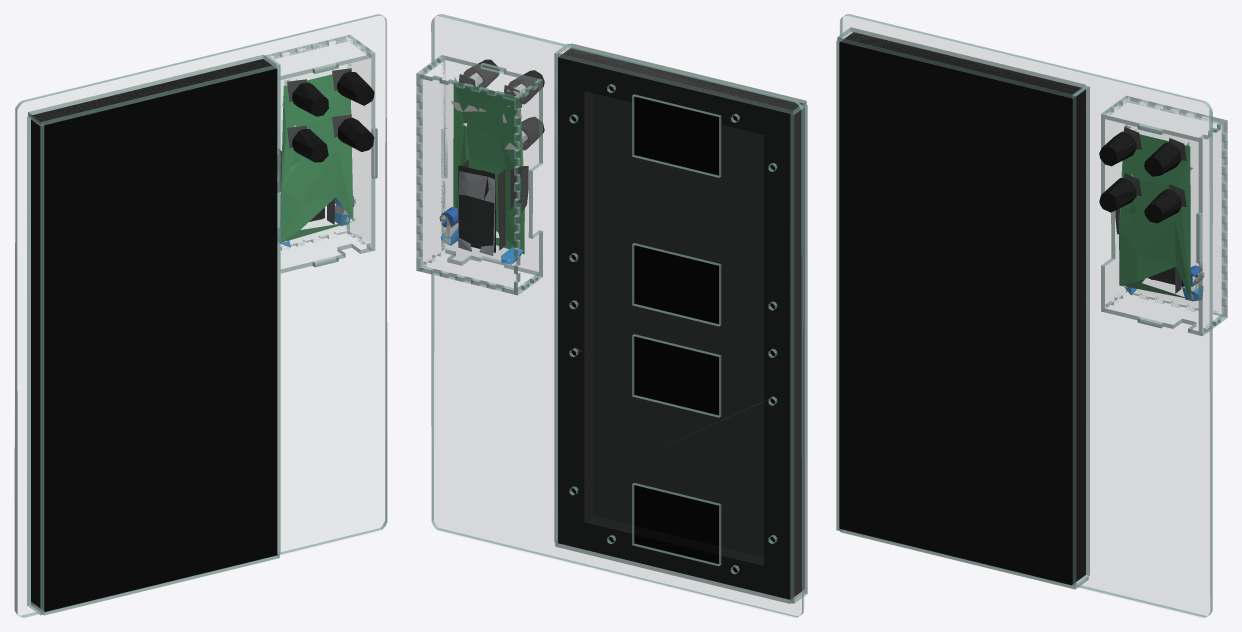
File: light.glb
The picture shows the model from 3 angles, left to right: view 1: azimuth 30°, elevation 25°; view 2: azimuth 150°, elevation 25°; view 3: azimuth 330°, elevation 25°; orthographic projection.
Visible parts, largest first — view 1: l, body; view 2: body; view 3: l, body.
Boxes of the visible parts, box(x1,y1,x2,y2) form: l: box(45, 69, 277, 611); body: box(14, 14, 387, 617); body: box(416, 14, 807, 617); l: box(839, 42, 1071, 585); body: box(836, 14, 1227, 617).
Bounding box in the file's own units: 25.6 × 34 × 5.35.
